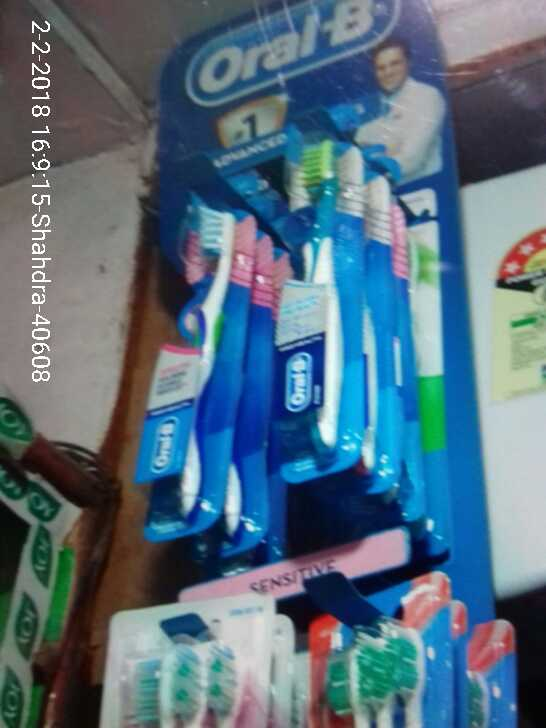oralb: (283, 142, 439, 509), (156, 198, 270, 558)
